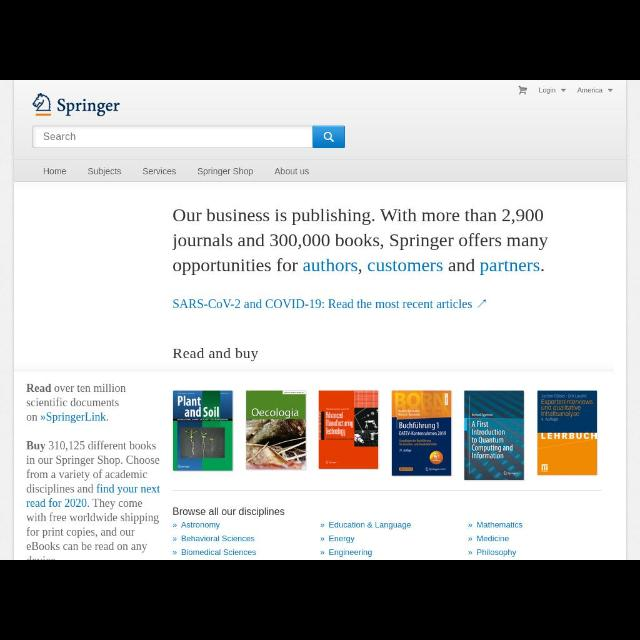button: (314, 126, 344, 148)
icon: (477, 298, 488, 310), (324, 132, 334, 142), (518, 85, 528, 95), (560, 88, 568, 92), (608, 88, 614, 92)
image: (465, 392, 523, 480), (392, 391, 452, 475), (538, 392, 598, 474), (247, 391, 306, 469), (174, 392, 232, 471), (320, 391, 378, 469), (32, 92, 122, 118)
input: (34, 126, 312, 148)
multitab: (33, 160, 319, 182)
spinner: (576, 86, 614, 95), (538, 87, 568, 95)
text: (172, 210, 550, 276), (26, 440, 162, 554), (24, 382, 126, 424), (171, 297, 474, 311), (173, 346, 259, 362), (172, 507, 286, 518), (321, 521, 412, 531), (173, 548, 257, 556), (173, 535, 255, 543), (198, 167, 255, 177), (321, 548, 374, 558), (172, 520, 222, 530), (468, 548, 518, 558), (466, 522, 524, 530), (88, 166, 122, 178), (42, 131, 76, 141), (320, 534, 354, 544), (468, 534, 510, 542), (274, 168, 310, 176), (142, 167, 176, 175), (576, 86, 604, 94), (44, 168, 66, 176), (539, 87, 557, 95)
